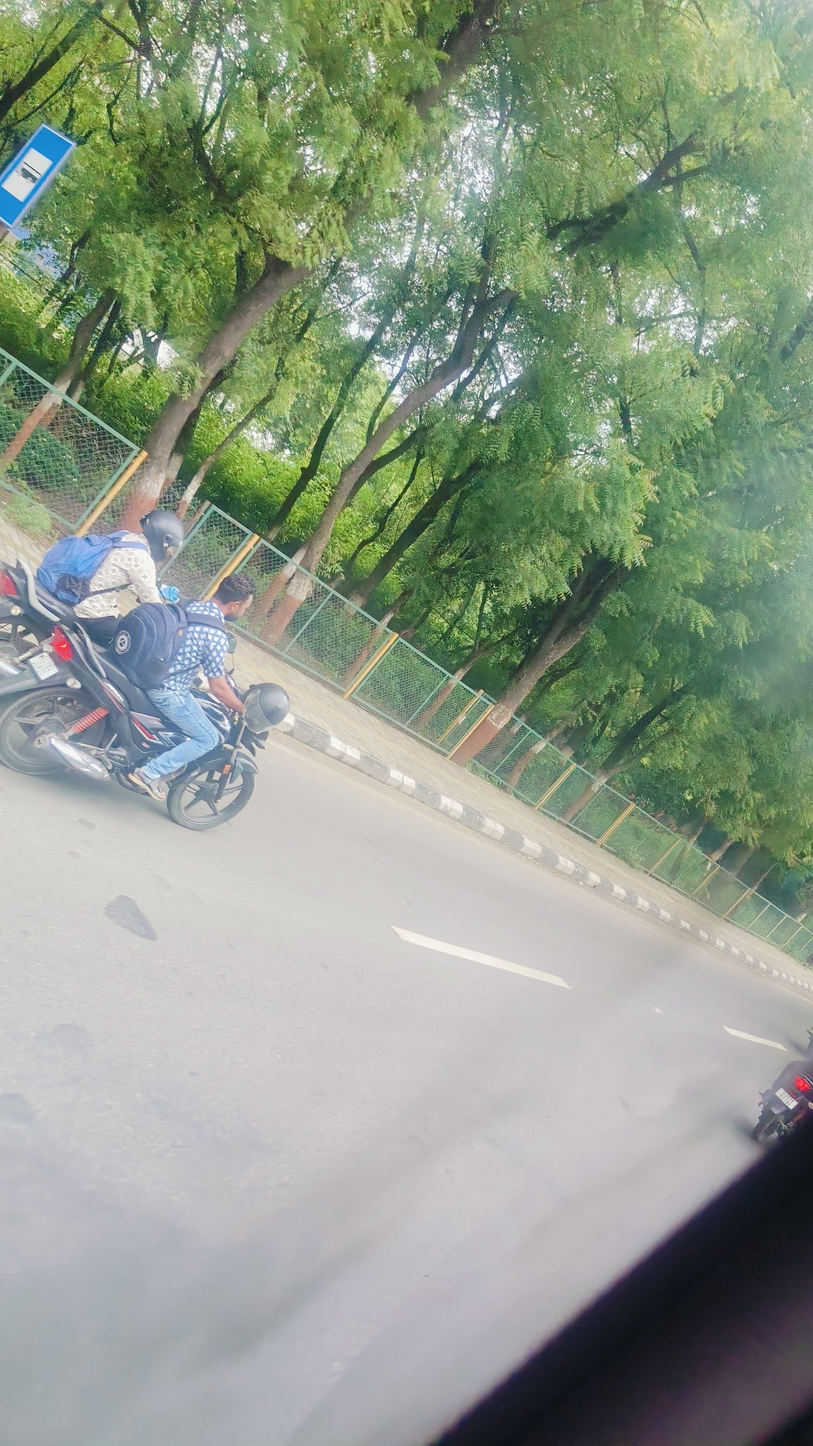BikeWithRider: (0, 569, 294, 833), (0, 507, 196, 674)
Helmet: (137, 508, 187, 566)
NoHelmet: (214, 570, 259, 623)
